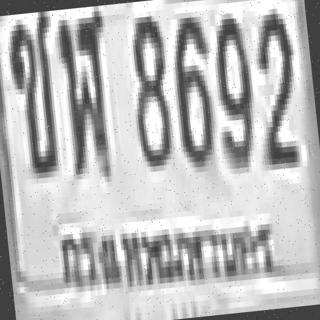A10: (3, 11, 61, 175)
A42: (54, 6, 115, 175)
N02: (249, 5, 300, 162)
N06: (167, 11, 215, 163)
N08: (122, 10, 173, 168)
N09: (208, 7, 256, 164)
P04: (49, 189, 286, 318)
